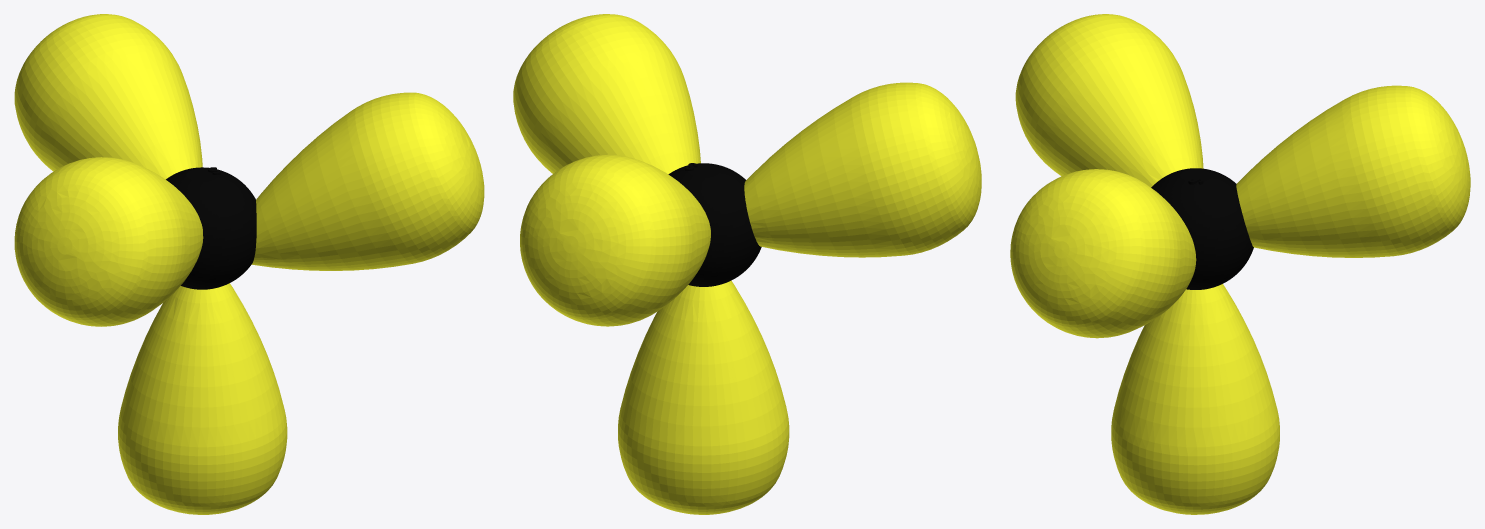
File: Carbono_s.glb
3 renders of one model, left to right at view 1: azimuth 30°, elevation 25°; view 2: azimuth 150°, elevation 25°; view 3: azimuth 270°, elevation 25°, orthographic.
Parts seen in each view (by area): view 1: root; view 2: root; view 3: root.
Boxes of the visible parts, left/top/right/bottom form: root: left=14, top=14, right=484, bottom=514; root: left=513, top=14, right=981, bottom=514; root: left=1010, top=14, right=1470, bottom=514.
Bounding box in the file's own units: 1.11 × 0.9809 × 1.
